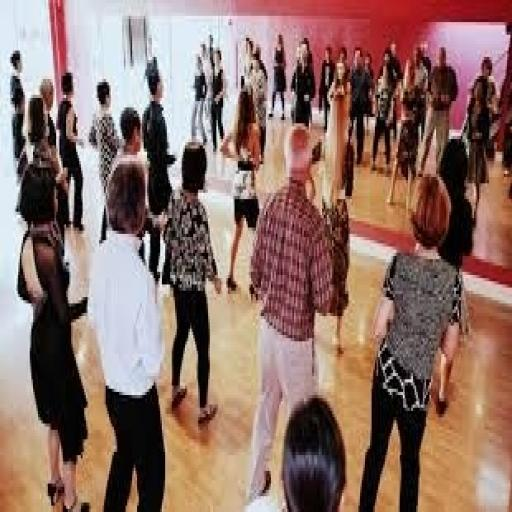dancing: (214, 26, 490, 460), (14, 44, 248, 482)
